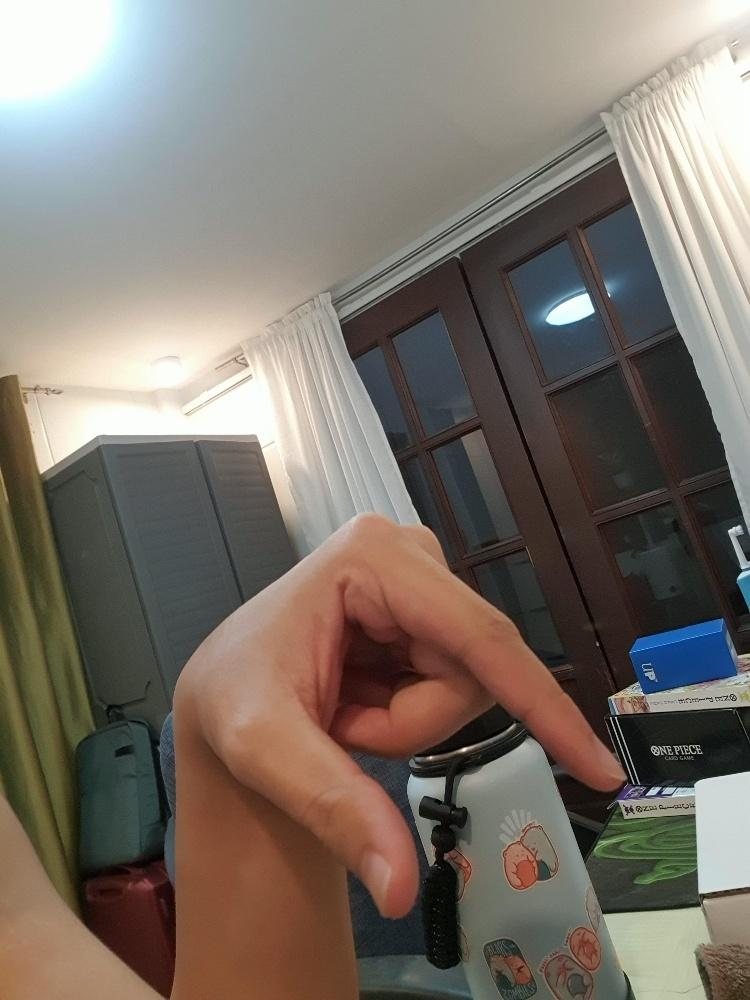q: (169, 503, 629, 923)
